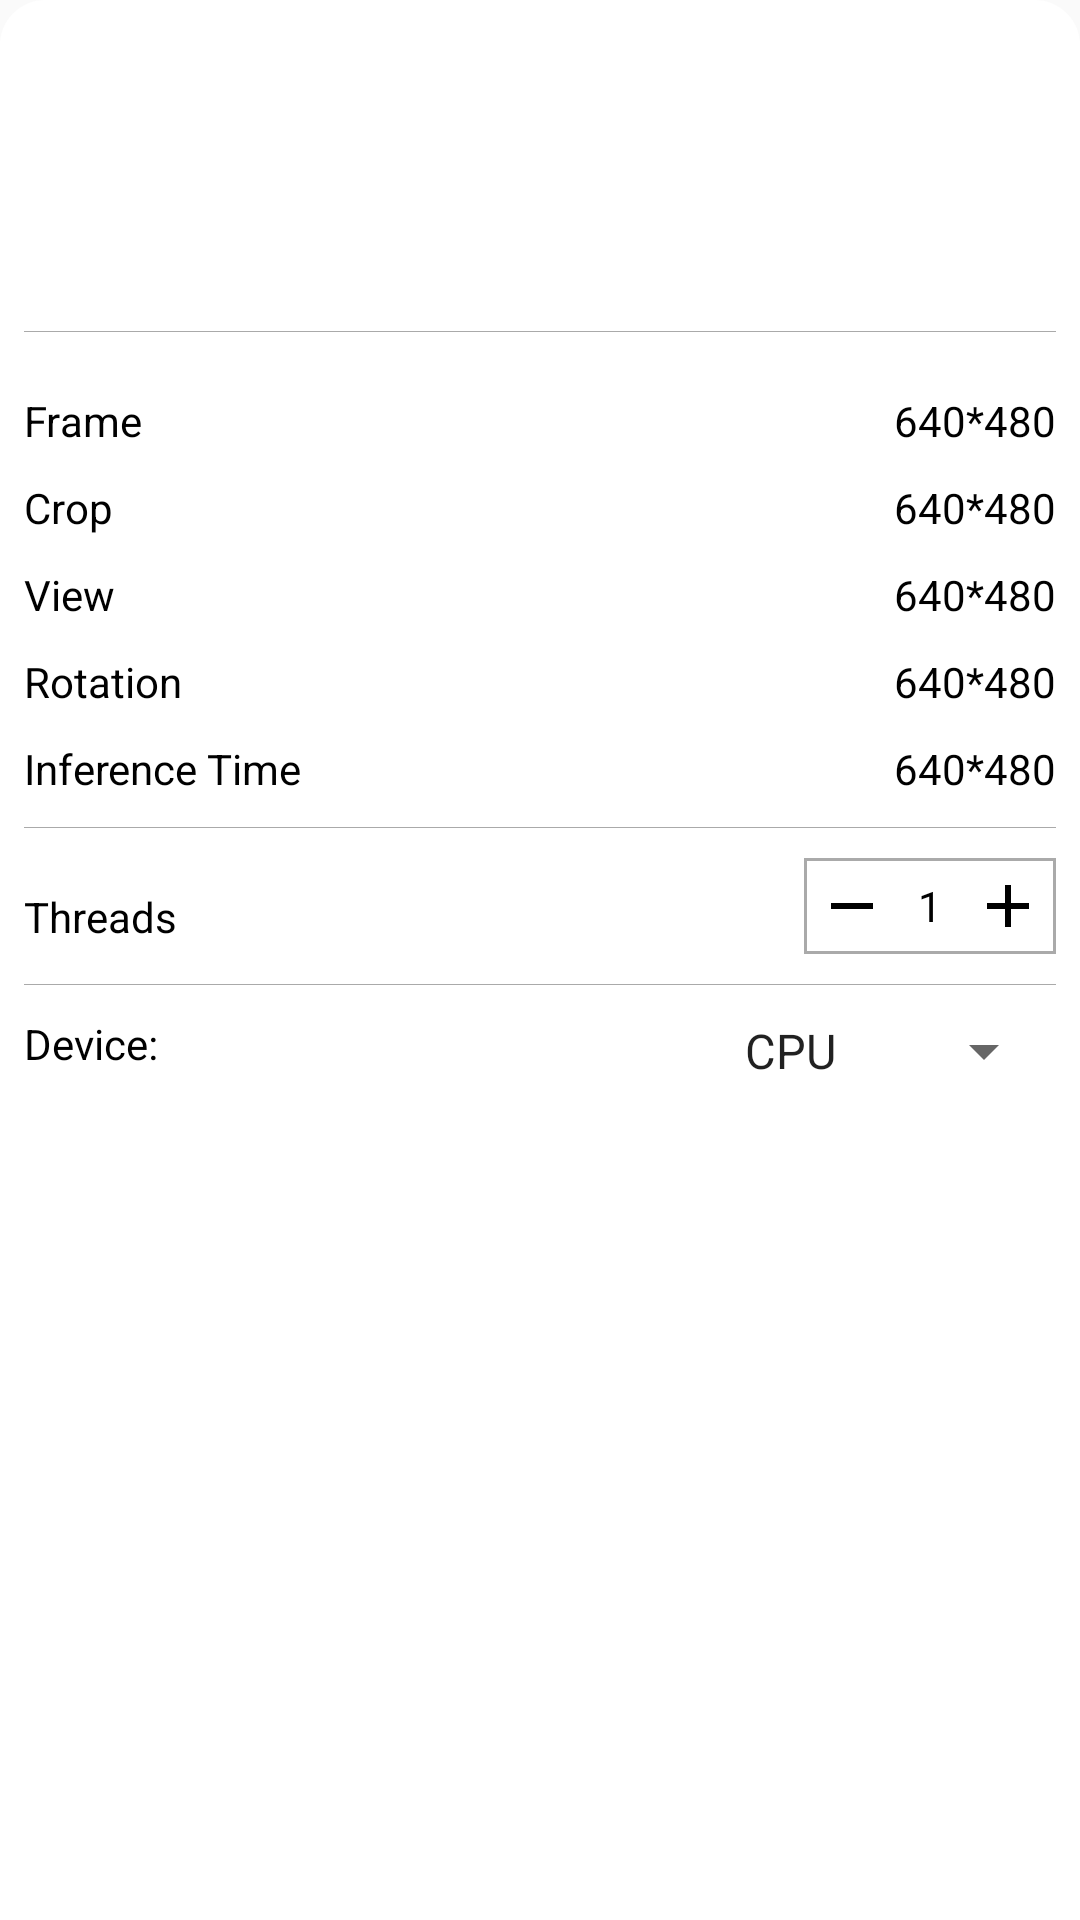

Where icons sit on this 1080w x 1920h app screen, as (x1, y1, x2, y2):
add: (987, 885, 1029, 927)
